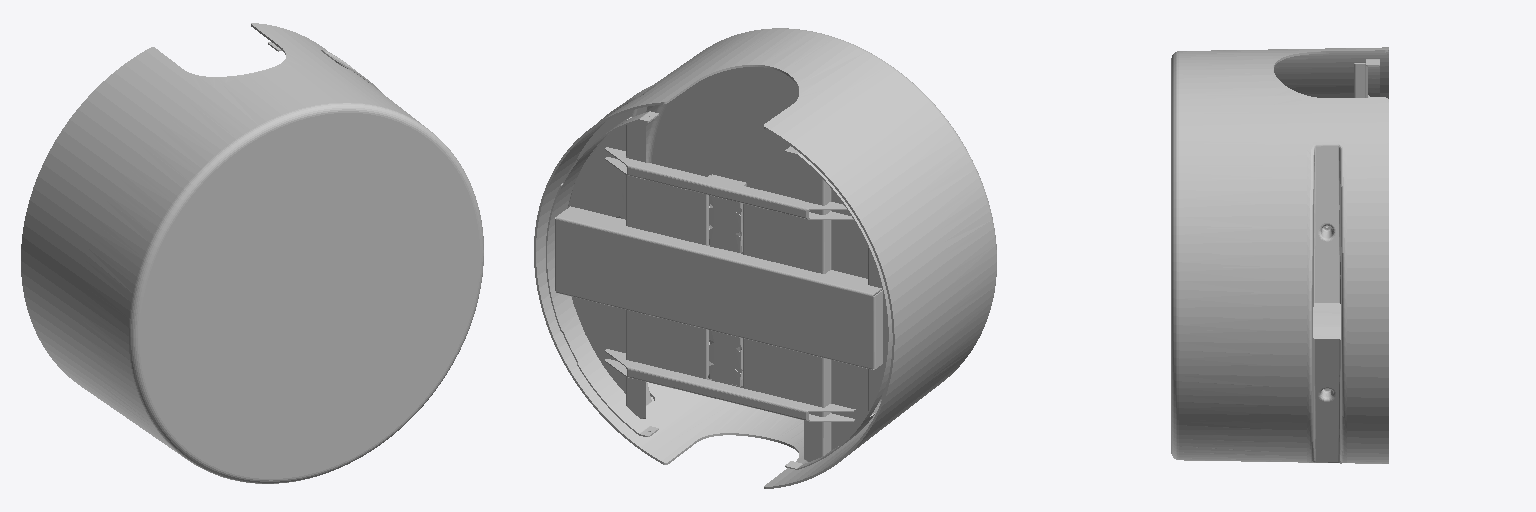
The picture shows the model from 3 angles: view 1: azimuth 30°, elevation 25°; view 2: azimuth 150°, elevation 25°; view 3: azimuth 270°, elevation 25°; orthographic projection.
Visible parts, largest first — view 1: base; view 2: base; view 3: base.
Boxes of the visible parts, x1,y1,x2,y2 form: base: [21, 23, 483, 483]; base: [534, 28, 996, 488]; base: [1171, 47, 1388, 463].
Size of the model in its own units: 0.5272 by 0.5205 by 0.274.